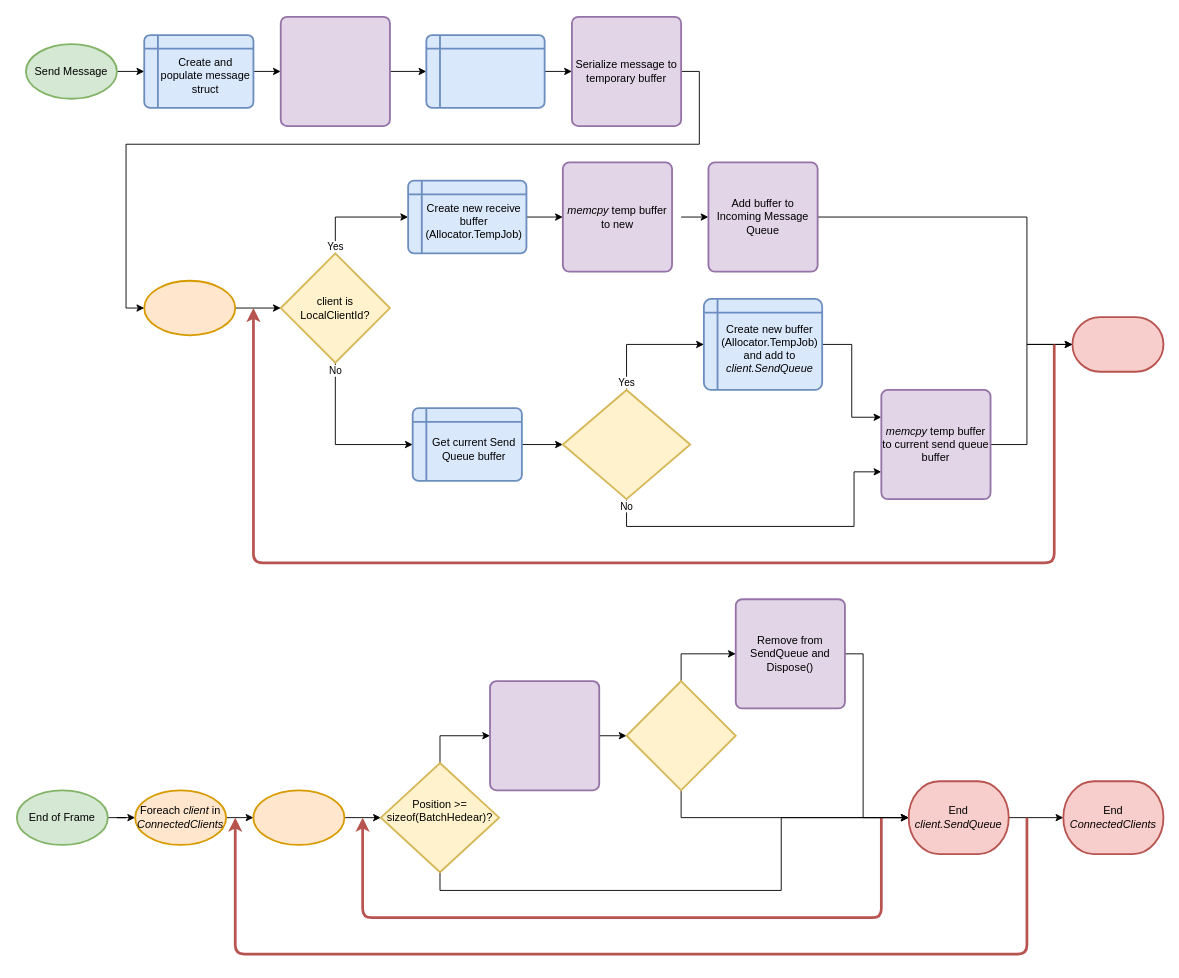
This 1179x978 diagram has some shape labels left out. Each missing label, with the centre of its shape:
Create temporary buffer (Allocator.Temp): (485,71)
Deliver to Transport: (544,735)
Foreach client in destinations: (189,307)
Foreach writer in client.SendQueue: (298,817)
idx != 0?: (680,735)
NetworkManager Send(message): (334,70)
Return: (1117,344)
Temp buffer position > remaining buffer space or QoS changed?: (626,444)
